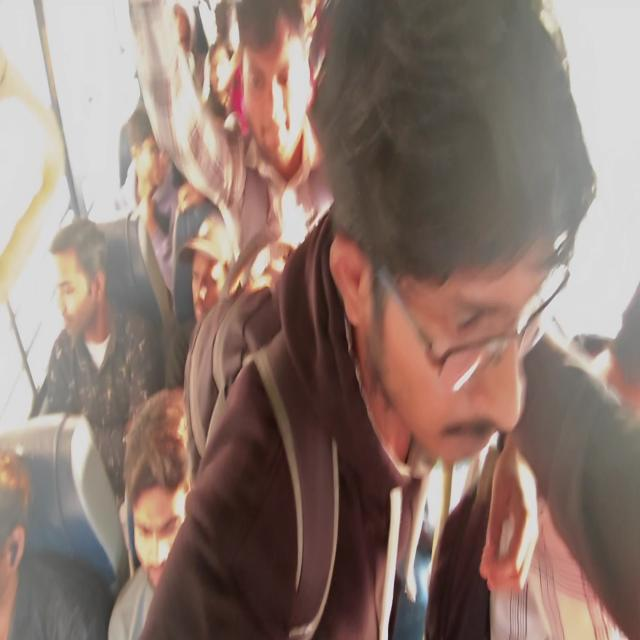person: (342, 40, 578, 517), (239, 32, 317, 175), (128, 419, 201, 564), (57, 231, 122, 361), (0, 433, 46, 601), (189, 230, 233, 314), (132, 118, 177, 193), (201, 45, 240, 97), (165, 8, 202, 59)
